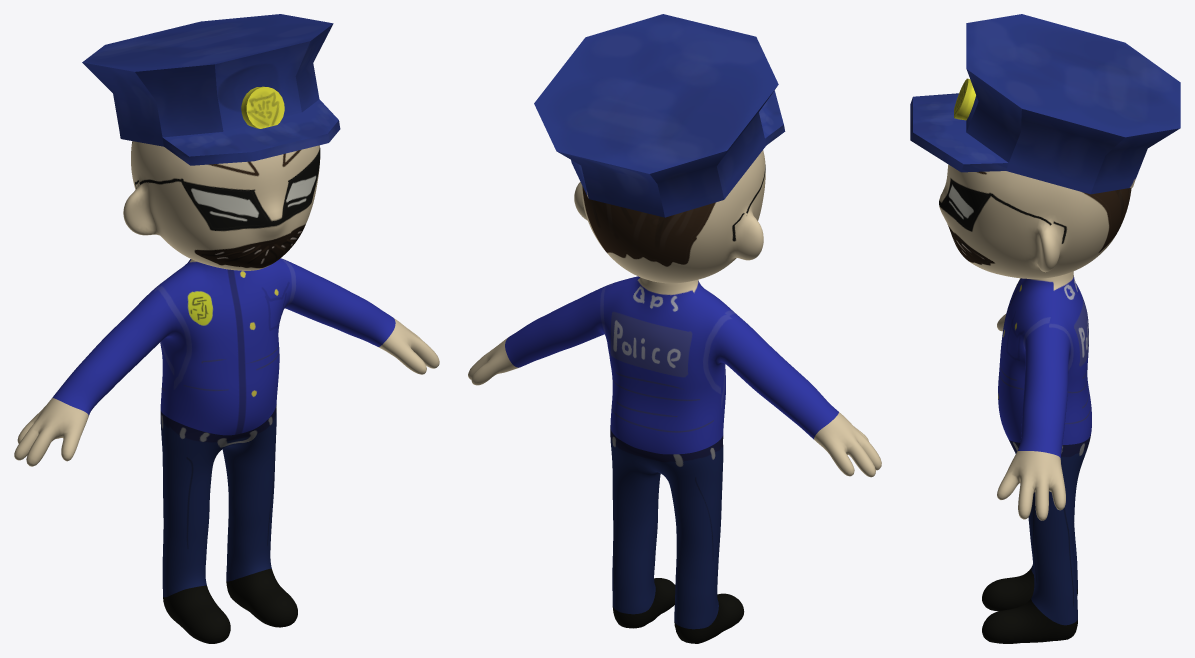
The model's file is Character_Tussenweek.fbx.
The picture shows the model from 3 angles, left to right: view 1: azimuth 30°, elevation 25°; view 2: azimuth 150°, elevation 25°; view 3: azimuth 270°, elevation 25°; orthographic projection. The views are drawn at different scales.
Visible parts, largest first — view 1: Character_Tussenweek:polySurface2, hat, pCylinder1; view 2: Character_Tussenweek:polySurface2, hat; view 3: Character_Tussenweek:polySurface2, hat, pCylinder1.
Part boxes in pixels (<box>): Character_Tussenweek:polySurface2: <box>14,141,439,643</box>; hat: <box>82,14,340,165</box>; pCylinder1: <box>241,86,284,128</box>; Character_Tussenweek:polySurface2: <box>468,150,881,643</box>; hat: <box>534,14,785,217</box>; Character_Tussenweek:polySurface2: <box>939,164,1131,643</box>; hat: <box>910,14,1180,194</box>; pCylinder1: <box>954,78,975,120</box>.
Size of the model in its own units: 3.99 by 5.39 by 2.29.
